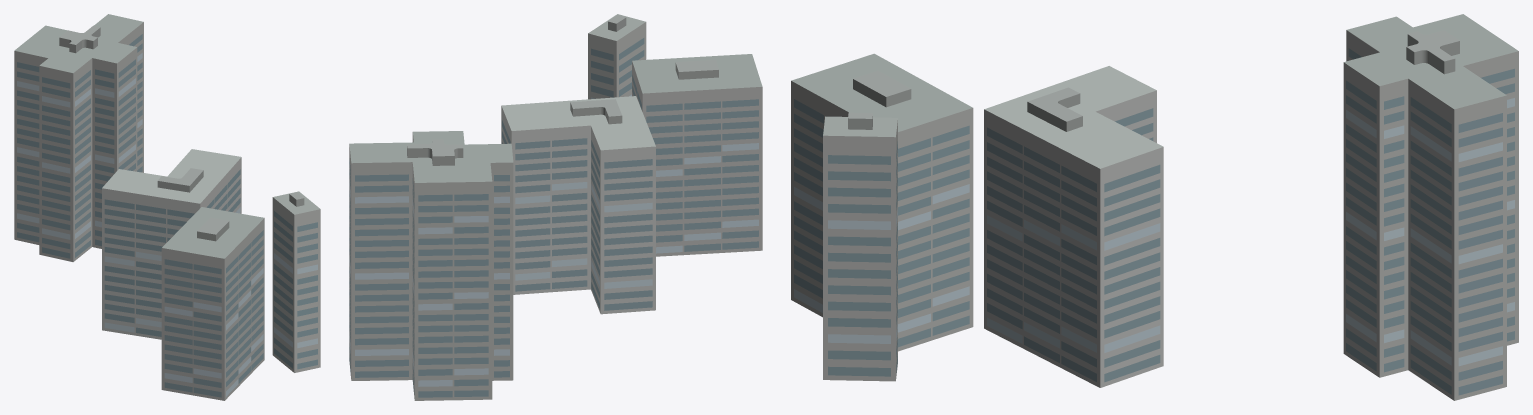
The model's file is apt-a13671212.glb.
The picture shows the model from 3 angles, left to right: view 1: azimuth 30°, elevation 25°; view 2: azimuth 150°, elevation 25°; view 3: azimuth 270°, elevation 25°; orthographic projection. The views are drawn at different scales.
Visible parts, largest first — view 1: apt-a13671212; view 2: apt-a13671212; view 3: apt-a13671212.
Part boxes in pixels (x1,y1,x2,y2): apt-a13671212: (14,14,320,400); apt-a13671212: (349,14,762,400); apt-a13671212: (791,14,1518,400).
Bounding box in the file's own units: 51.46 × 57 × 124.
